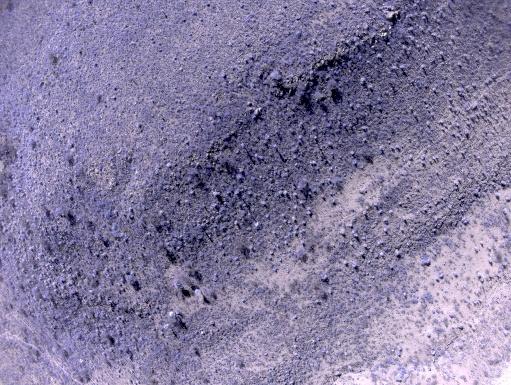agave: (236, 175, 245, 184), (134, 122, 143, 129), (323, 158, 329, 168), (244, 41, 252, 48), (173, 197, 181, 204), (335, 20, 342, 27), (296, 139, 303, 146), (175, 173, 181, 181), (238, 3, 245, 9), (220, 73, 227, 79), (231, 66, 237, 73), (377, 107, 384, 113), (365, 102, 372, 108), (180, 17, 187, 23), (283, 4, 289, 10), (295, 15, 301, 21), (122, 237, 128, 243), (410, 79, 415, 86), (440, 79, 445, 85), (185, 140, 190, 145), (192, 12, 197, 17), (377, 97, 381, 103), (206, 3, 211, 7), (340, 28, 344, 32), (94, 64, 99, 67)
